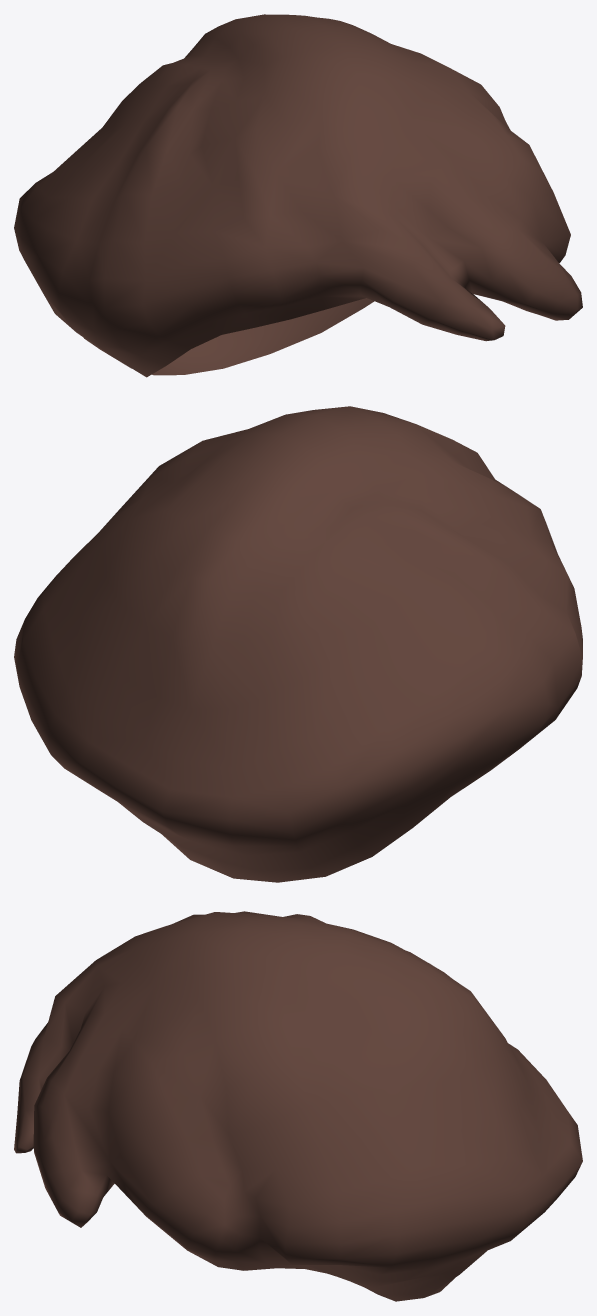
File: Hair_011.glb
The picture shows the model from 3 angles, top to bottom: view 1: azimuth 30°, elevation 25°; view 2: azimuth 150°, elevation 25°; view 3: azimuth 270°, elevation 25°; orthographic projection. The views are drawn at different scales.
Visible parts, largest first — view 1: Hair_011; view 2: Hair_011; view 3: Hair_011.
Boxes of the visible parts, bbox=[...] form: Hair_011: bbox=[14, 14, 582, 377]; Hair_011: bbox=[14, 406, 582, 882]; Hair_011: bbox=[14, 911, 582, 1301].
Size of the model in its own units: 0.5221 by 0.3932 by 0.5563.
1 material, 1 textured.
